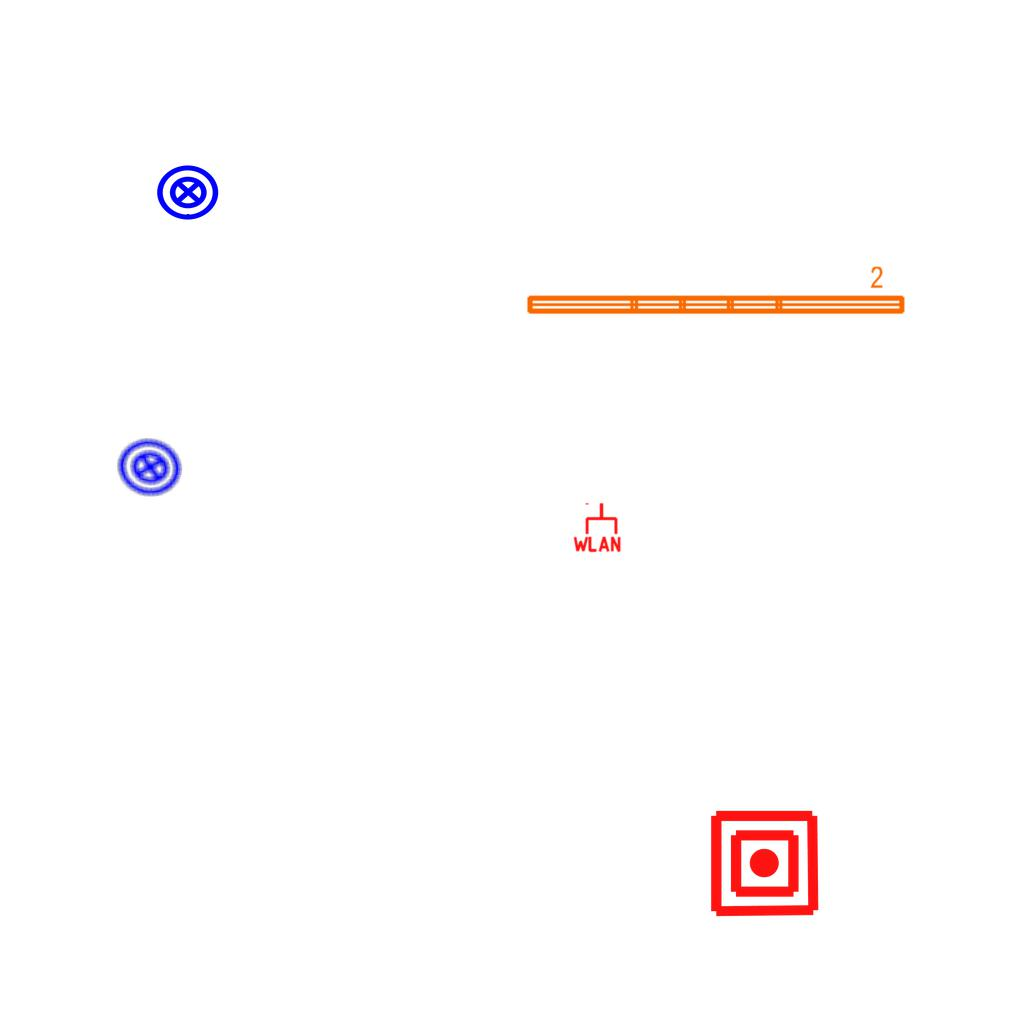Ambulanz_Pendelleuchte_LED: (522, 264, 909, 320)
NAM-Nichtautomatischer_Melder: (708, 807, 821, 920)
Taster_beleuchtet: (110, 427, 190, 507), (155, 159, 221, 225)
WLAN: (571, 501, 623, 553)
